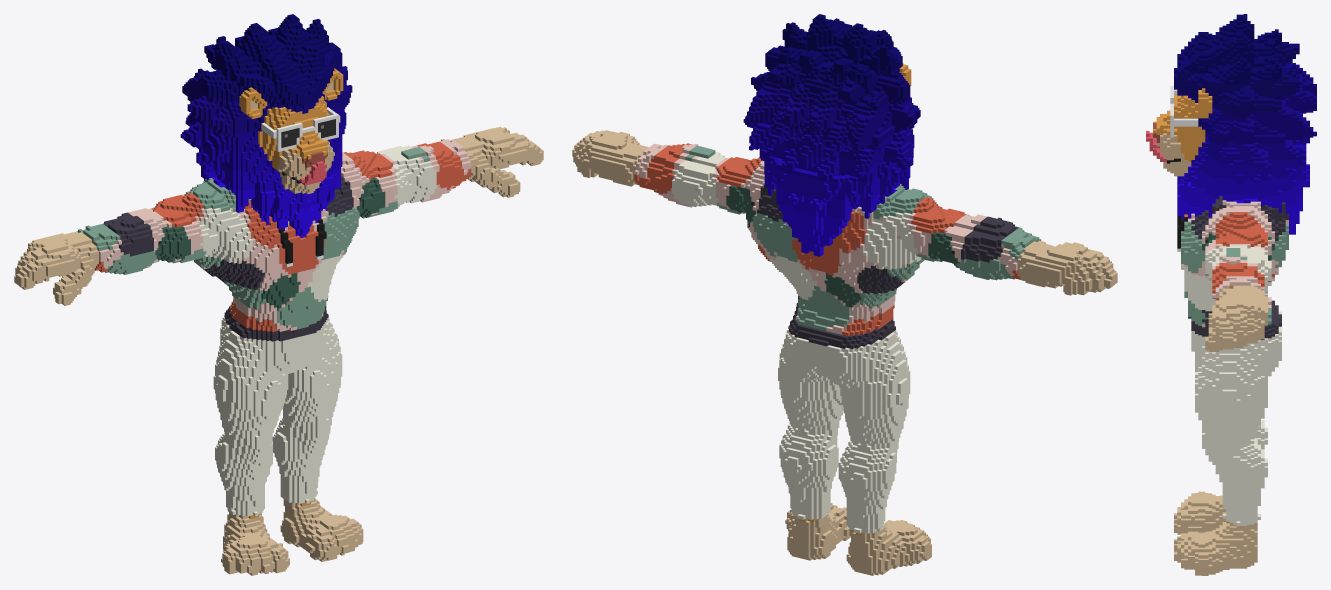
The model's file is 251-DGH3Zkcg.fbx.
The picture shows the model from 3 angles, left to right: view 1: azimuth 30°, elevation 25°; view 2: azimuth 150°, elevation 25°; view 3: azimuth 270°, elevation 25°; orthographic projection. The views are drawn at different scales.
Parts seen in each view (by area): view 1: licking_nose; view 2: licking_nose; view 3: licking_nose.
Boxes of the visible parts, x1,y1,x2,y2 form: licking_nose: (14,14,543,575); licking_nose: (572,14,1117,575); licking_nose: (1146,14,1316,575).
Size of the model in its own units: 17.2 by 16.5 by 4.9.
5 materials, 5 textured.
